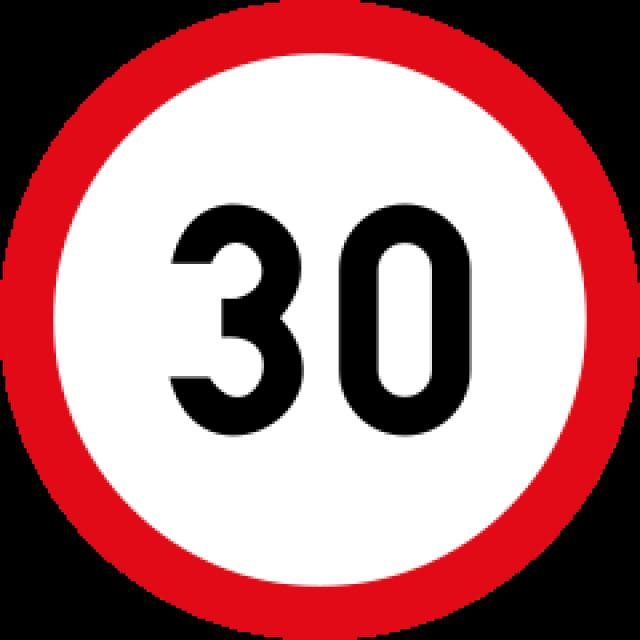Speed Limit -30-: (156, 189, 501, 449)
